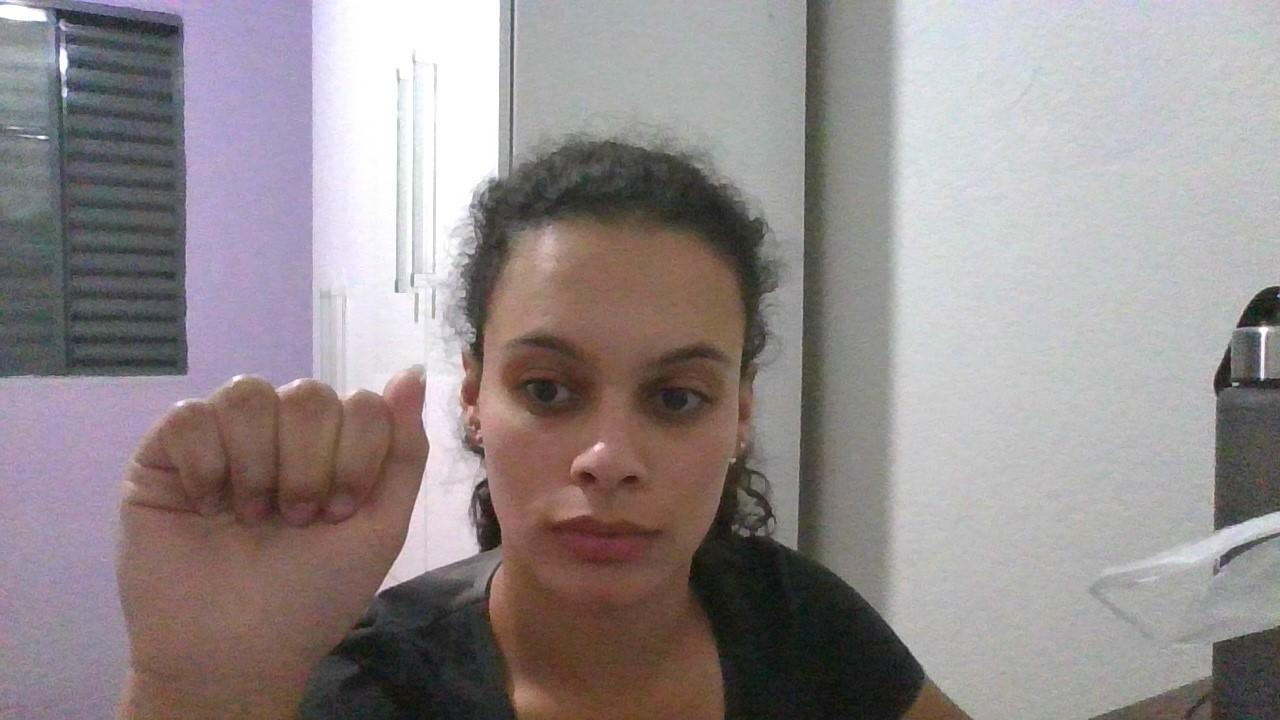A: (106, 362, 440, 656)
